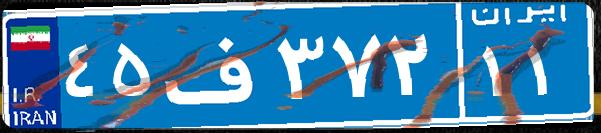1: (475, 38, 525, 113), (525, 38, 570, 115)
2: (385, 28, 445, 110)
3: (273, 28, 330, 110)
4: (57, 26, 110, 107)
5: (110, 28, 158, 105)
7: (330, 28, 385, 110)
ف: (158, 15, 273, 115)
